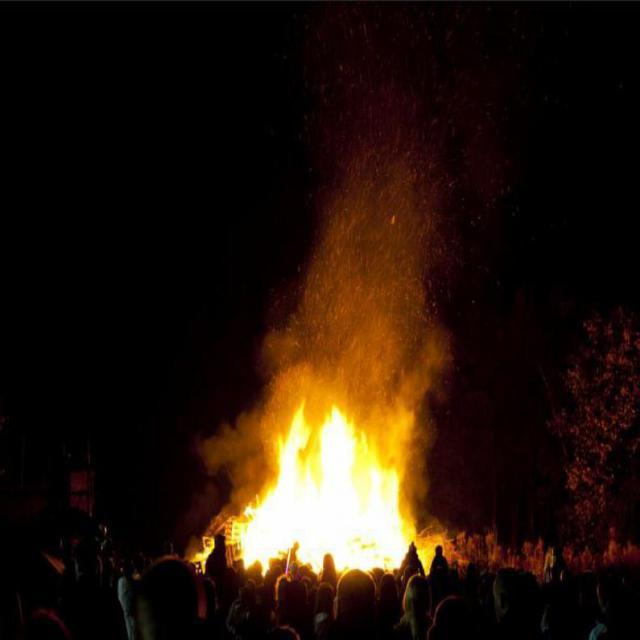Fire: (232, 391, 434, 578)
